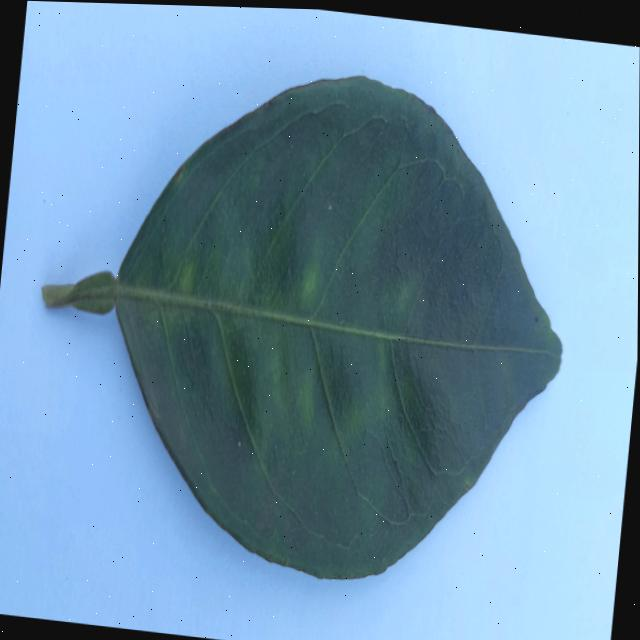greening: (42, 77, 561, 577)
